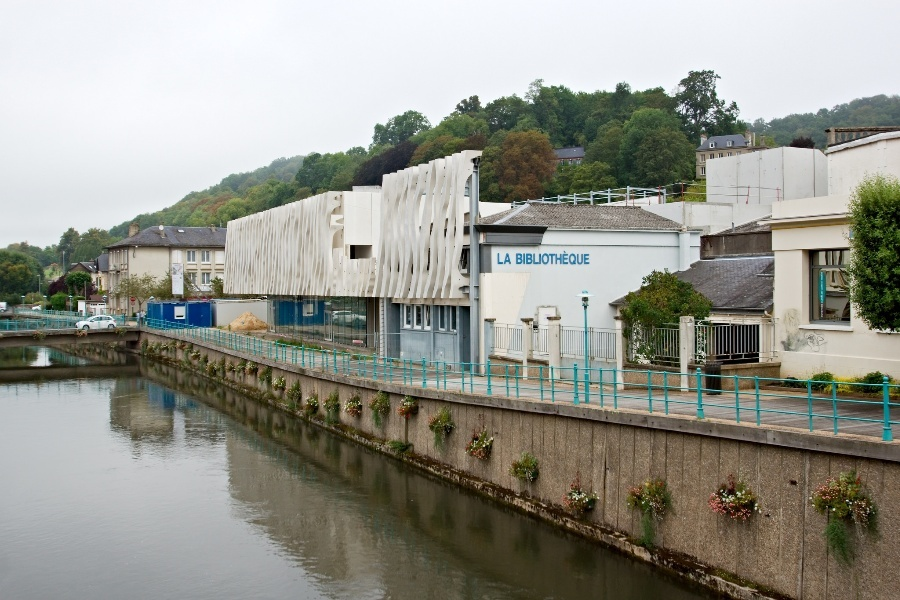text: (820, 271, 832, 322), (529, 248, 544, 265), (545, 248, 560, 265), (561, 248, 576, 265), (515, 248, 528, 265), (577, 248, 590, 265), (498, 253, 512, 265)
